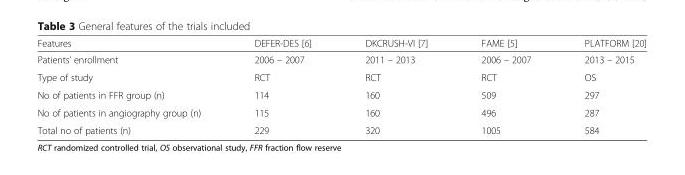table: (36, 36, 645, 135)
table column: (36, 36, 226, 135), (337, 36, 453, 135), (226, 36, 337, 135), (453, 36, 557, 135), (557, 36, 645, 135)
table column header: (36, 36, 645, 50)
table row: (36, 50, 645, 68), (36, 85, 645, 103), (36, 103, 645, 121), (36, 68, 645, 85), (36, 36, 645, 50), (36, 121, 645, 135)
